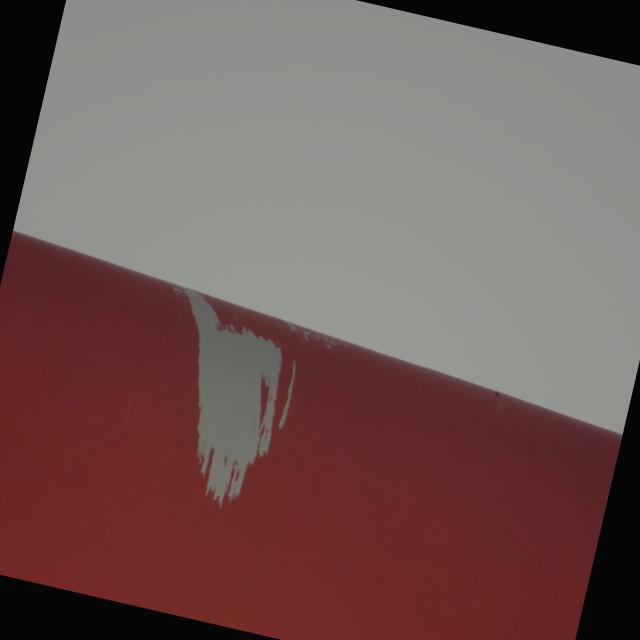surface_peeling: (133, 285, 316, 518)
